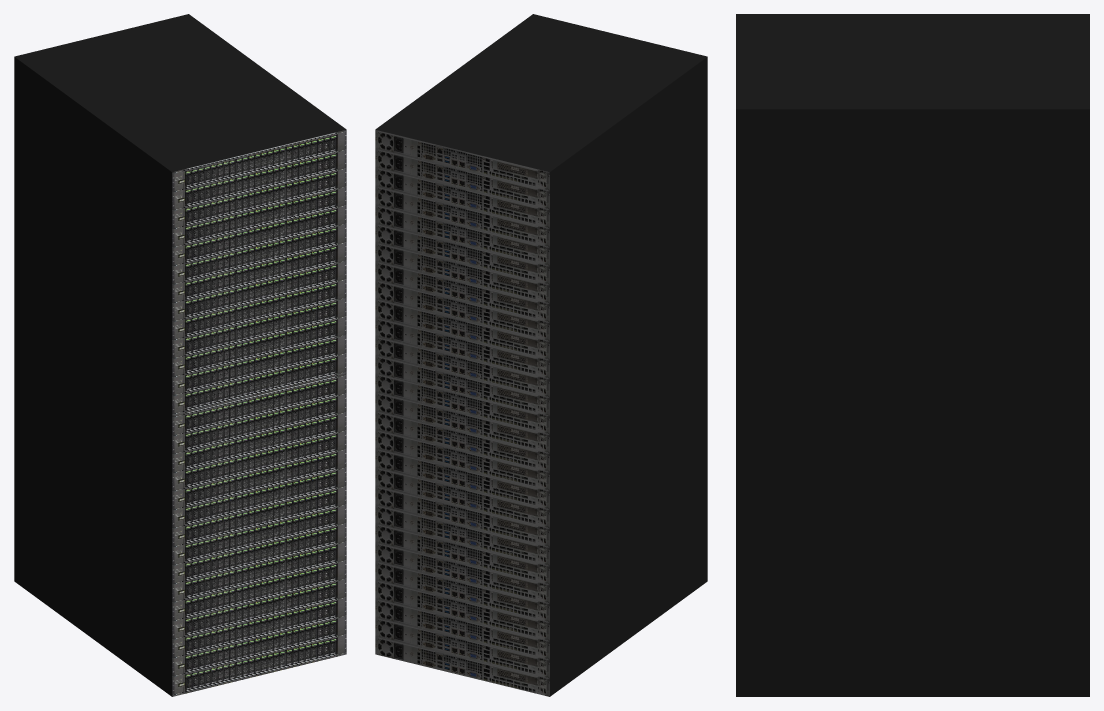
Rendered from TDR28.fbx.
The picture shows the model from 3 angles, left to right: view 1: azimuth 30°, elevation 25°; view 2: azimuth 150°, elevation 25°; view 3: azimuth 270°, elevation 25°; orthographic projection. The views are drawn at different scales.
Parts seen in each view (by area): view 1: TDR28; view 2: TDR28; view 3: TDR28.
Part boxes in pixels (left/top/right/bottom): TDR28: left=14, top=14, right=346, bottom=696; TDR28: left=375, top=14, right=707, bottom=696; TDR28: left=736, top=14, right=1089, bottom=696.
Size of the model in its own units: 434 by 1246 by 680.
Materials: 3 (2 with a texture image).
